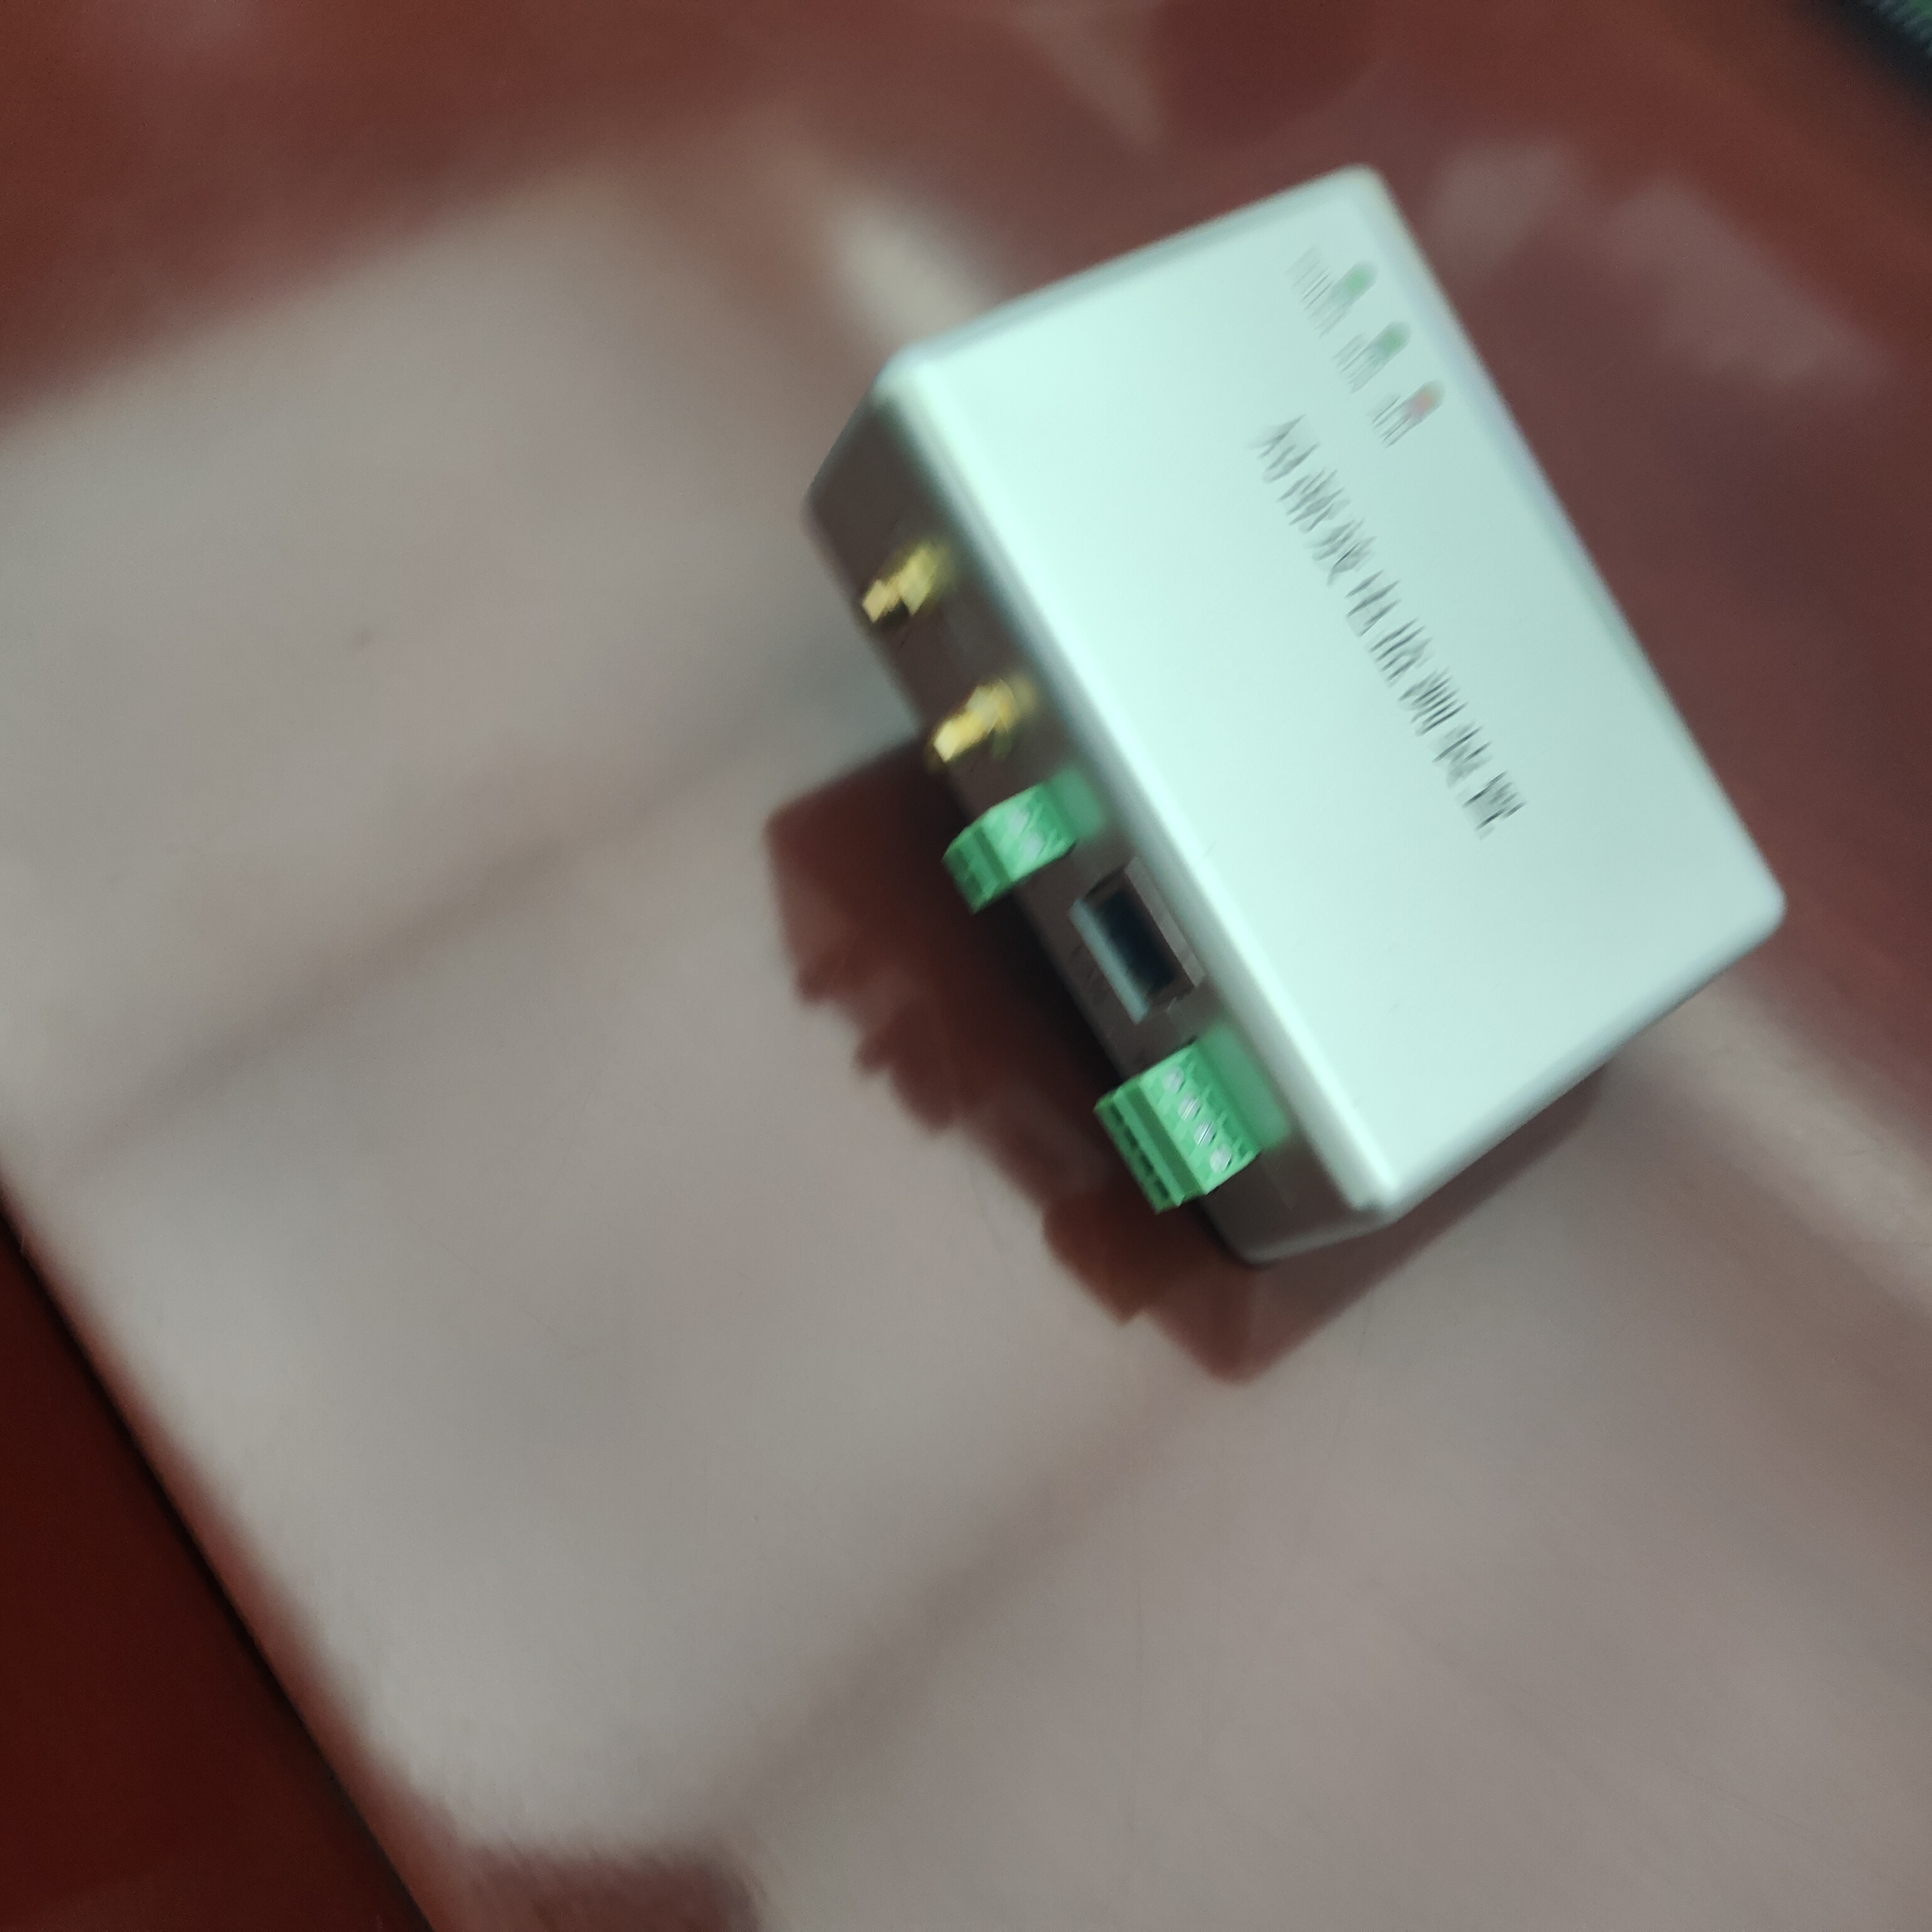jbfdjc: (809, 149, 1798, 1247)
